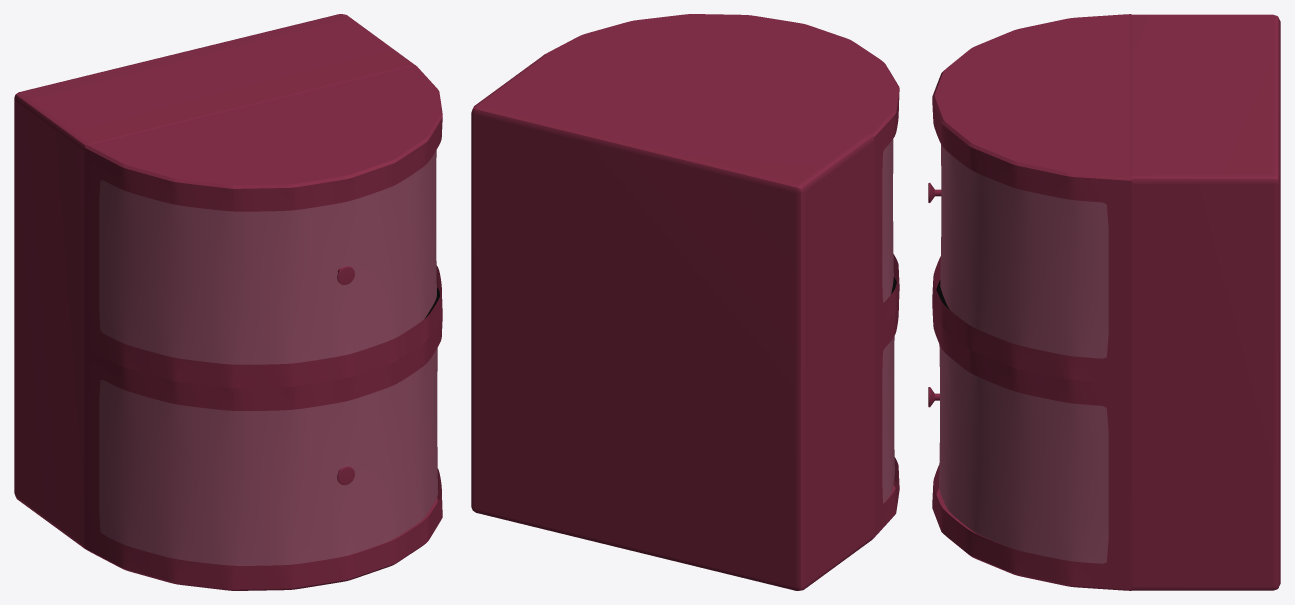
The model's file is buro.obj.
3 renders of one model, left to right at view 1: azimuth 30°, elevation 25°; view 2: azimuth 150°, elevation 25°; view 3: azimuth 270°, elevation 25°, orthographic. The views are drawn at different scales.
Parts seen in each view (by area): view 1: tocador2:Cylinder009; view 2: tocador2:Cylinder009; view 3: tocador2:Cylinder009.
Part boxes in pixels (x1,y1,x2,y2): tocador2:Cylinder009: [14, 14, 442, 590]; tocador2:Cylinder009: [471, 14, 899, 590]; tocador2:Cylinder009: [928, 14, 1280, 590].
Size of the model in its own units: 1.03 by 1.2 by 0.9224.
